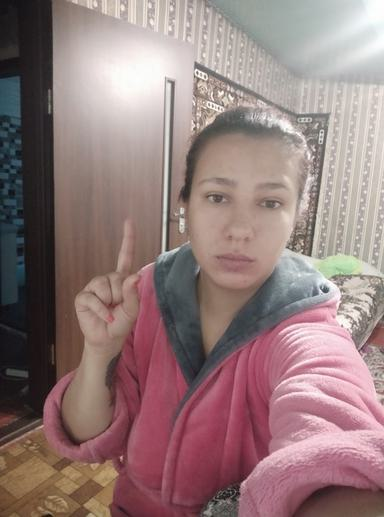one: (72, 217, 143, 352)
